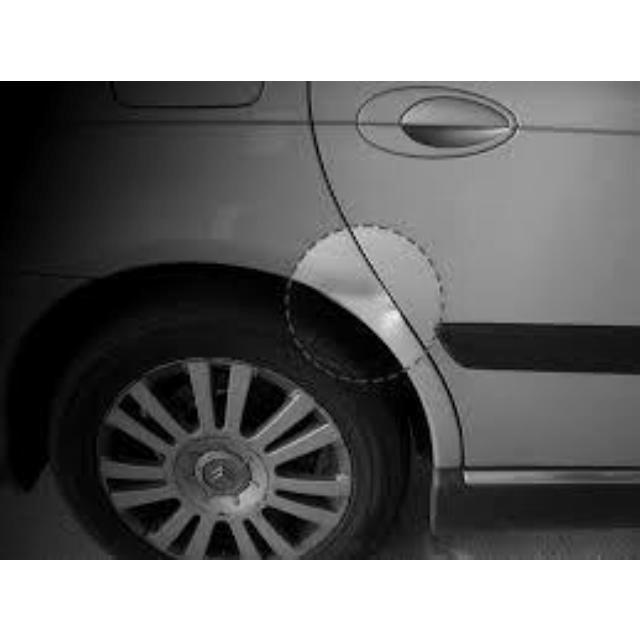quaterpanel-dent: (171, 154, 410, 366)
